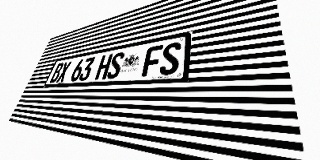3: (78, 57, 95, 81)
6: (69, 58, 86, 82)
B: (49, 62, 64, 83)
F: (141, 45, 163, 77)
H: (94, 54, 113, 80)
S: (159, 41, 182, 76), (106, 51, 125, 79)
X: (56, 61, 72, 82)
